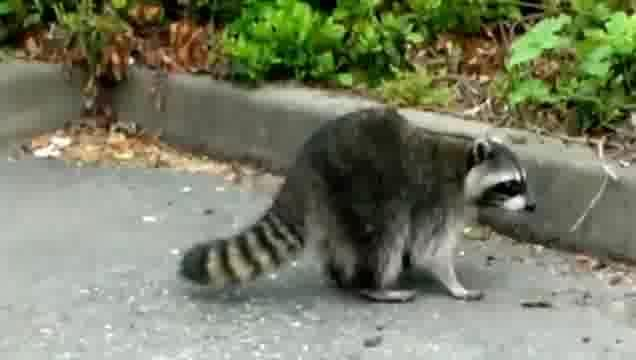raccoon: (181, 109, 539, 303)
